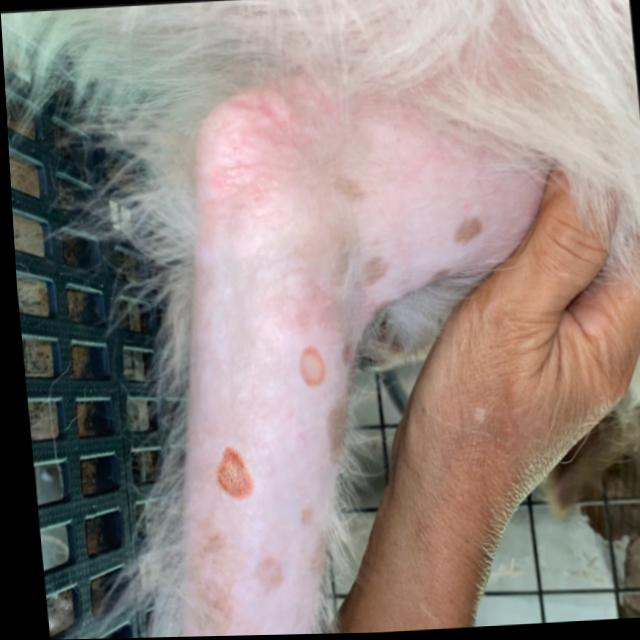ringworm: (182, 393, 271, 531), (267, 308, 349, 425)
